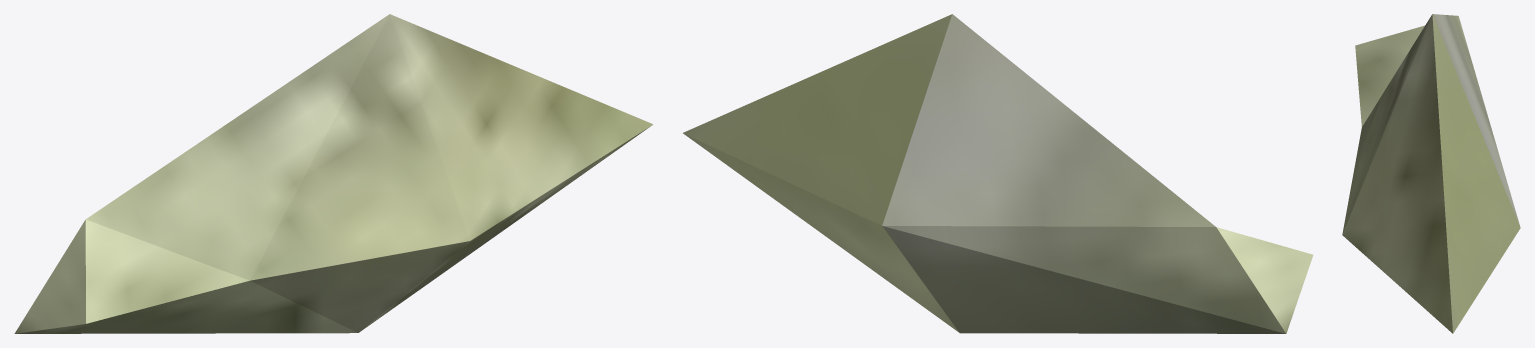
The picture shows the model from 3 angles, left to right: view 1: azimuth 30°, elevation 25°; view 2: azimuth 150°, elevation 25°; view 3: azimuth 270°, elevation 25°; orthographic projection. The views are drawn at different scales.
Size of the model in its own units: 0.2952 by 0.1429 by 0.0712.
Materials: 1 (1 with a texture image).
